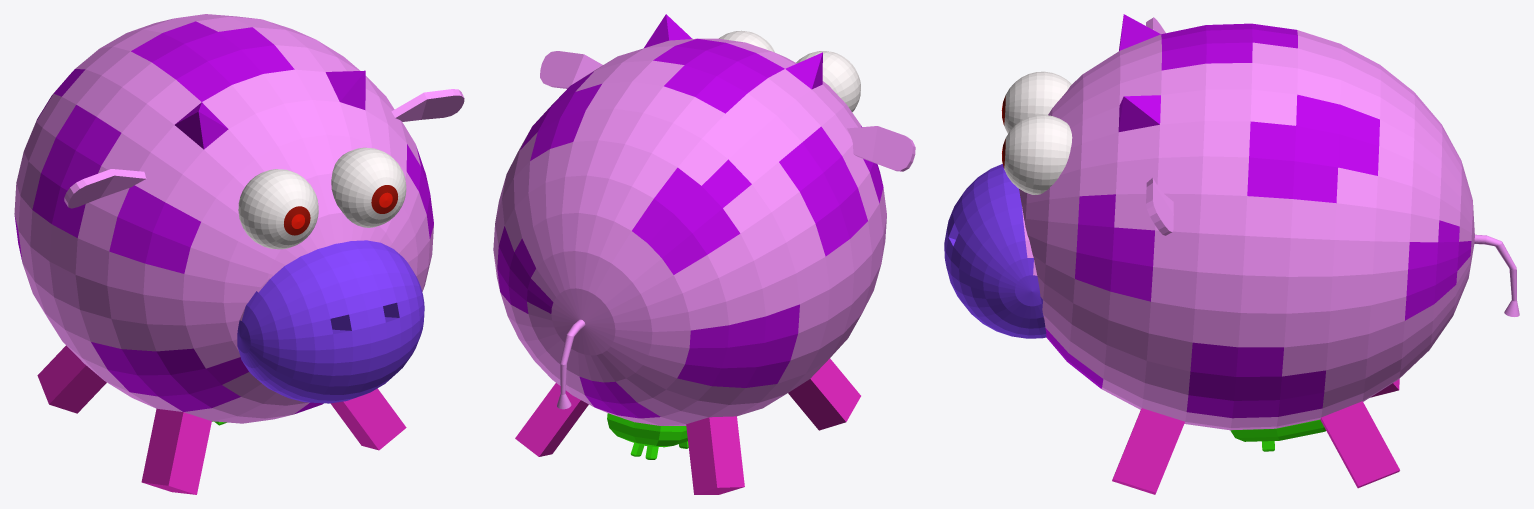
Rendered from KOROVA.fbx.
3 views of the same model, side by side, from view 1: azimuth 30°, elevation 25°; view 2: azimuth 150°, elevation 25°; view 3: azimuth 270°, elevation 25° (orthographic). The views are drawn at different scales.
Parts seen in each view (by area): view 1: Sphere.001, Sphere.007, Sphere.003, Sphere.006, Sphere.002, Sphere.004, Sphere.009; view 2: Sphere.001, Sphere.007, Sphere.006, Sphere.002, Sphere.005, Sphere.004; view 3: Sphere.001, Sphere.007, Sphere.003, Sphere.006, Sphere.002, Sphere.004, Sphere.005.
Boxes of the visible parts, left/top/right/bottom form: Sphere.001: left=14, top=14, right=464, bottom=423; Sphere.007: left=14, top=21, right=433, bottom=414; Sphere.003: left=237, top=240, right=424, bottom=403; Sphere.006: left=37, top=345, right=406, bottom=494; Sphere.002: left=238, top=147, right=406, bottom=249; Sphere.004: left=175, top=70, right=365, bottom=149; Sphere.009: left=284, top=185, right=397, bottom=235; Sphere.001: left=493, top=38, right=915, bottom=425; Sphere.007: left=497, top=38, right=883, bottom=418; Sphere.006: left=515, top=358, right=860, bottom=494; Sphere.002: left=719, top=30, right=860, bottom=112; Sphere.005: left=607, top=413, right=688, bottom=459; Sphere.004: left=644, top=14, right=822, bottom=89; Sphere.001: left=1019, top=17, right=1519, bottom=430; Sphere.007: left=1045, top=23, right=1471, bottom=418; Sphere.003: left=944, top=164, right=1046, bottom=338; Sphere.006: left=1112, top=379, right=1399, bottom=494; Sphere.002: left=1004, top=71, right=1072, bottom=194; Sphere.004: left=1118, top=14, right=1160, bottom=131; Sphere.005: left=1230, top=419, right=1326, bottom=451.
Size of the model in its own units: 31.31 by 30.43 by 39.13.
